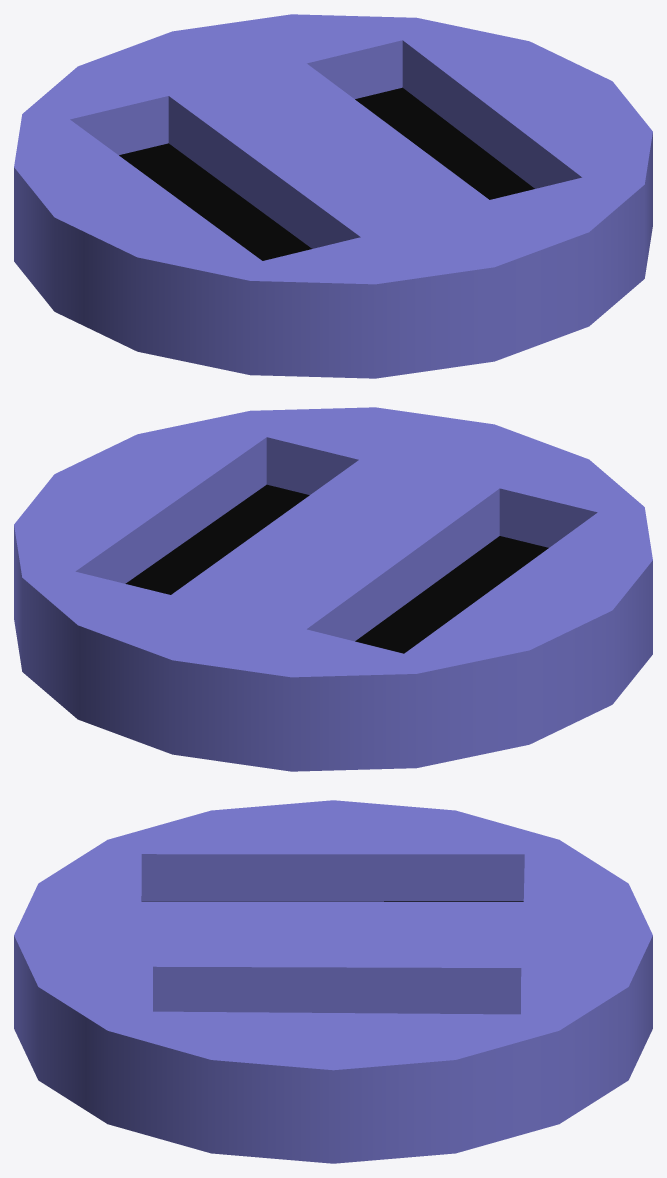
The model's file is pluginput.fbx.
3 views of the same model, one above another, from view 1: azimuth 30°, elevation 25°; view 2: azimuth 150°, elevation 25°; view 3: azimuth 270°, elevation 25° (orthographic).
Parts seen in each view (by area): view 1: pCylinder1; view 2: pCylinder1; view 3: pCylinder1.
Boxes of the visible parts, x1,y1,x2,y2 form: pCylinder1: (14,14,652,378); pCylinder1: (14,407,652,771); pCylinder1: (14,800,652,1163).
Bounding box in the file's own units: 2.05 × 0.3313 × 2.05.
